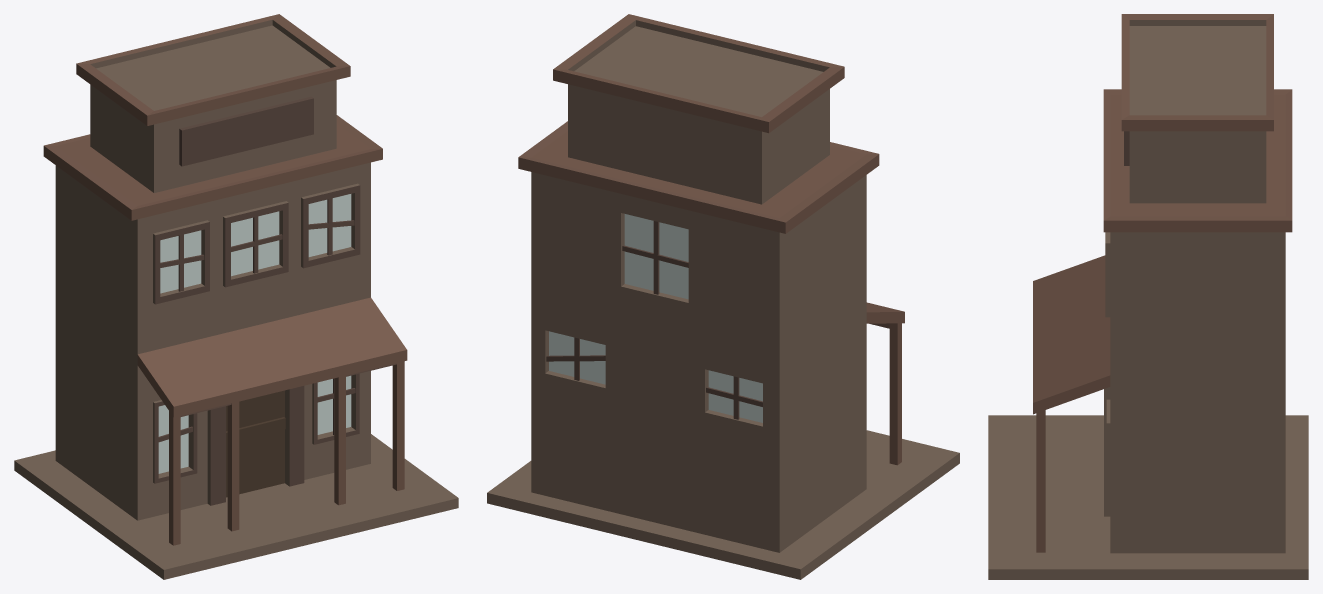
The model's file is CasitaB.fbx.
3 views of the same model, side by side, from view 1: azimuth 30°, elevation 25°; view 2: azimuth 150°, elevation 25°; view 3: azimuth 270°, elevation 25° (orthographic). The views are drawn at different scales.
Visible parts, largest first — view 1: CasitaB; view 2: CasitaB; view 3: CasitaB.
Boxes of the visible parts, x1,y1,x2,y2 form: CasitaB: (14, 14, 458, 579); CasitaB: (487, 14, 959, 579); CasitaB: (988, 14, 1308, 579).
Size of the model in its own units: 373 by 492 by 328.
